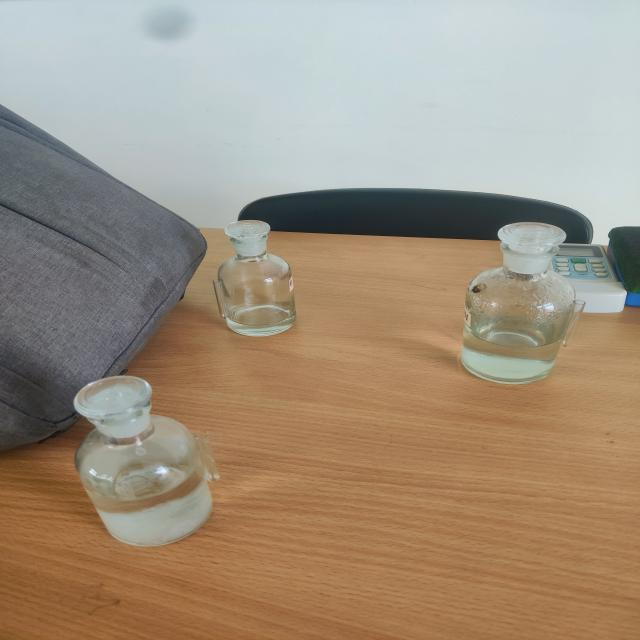Reagent_Bottle: (45, 364, 241, 569), (436, 189, 604, 397), (192, 197, 328, 366)
